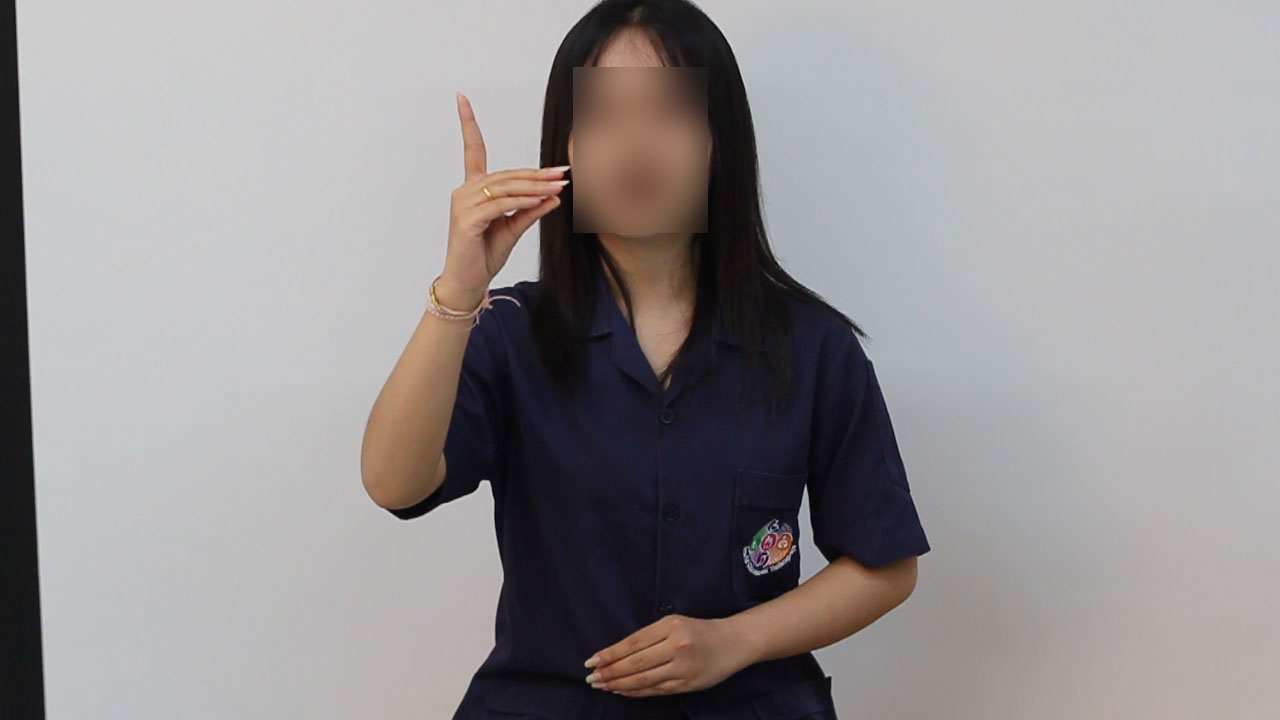dor: (423, 87, 575, 295)
